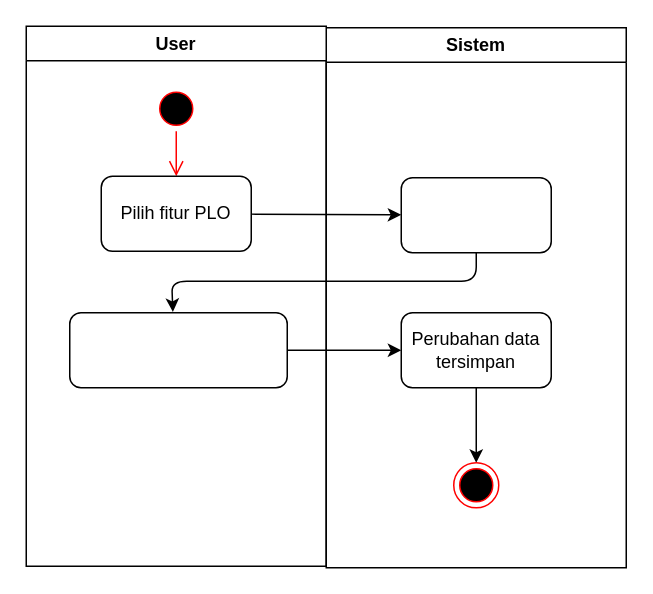
This 653x594 diagram has some shape labels left out. The centre of each missing label's shape, as x and y in pixels:
"Menampilkan halaman PLO" goes at [475,214].
"Pilih data PLO yang ingin di hapus dengan pilih (icon stop) pada kolom aksi" goes at [177,349].
